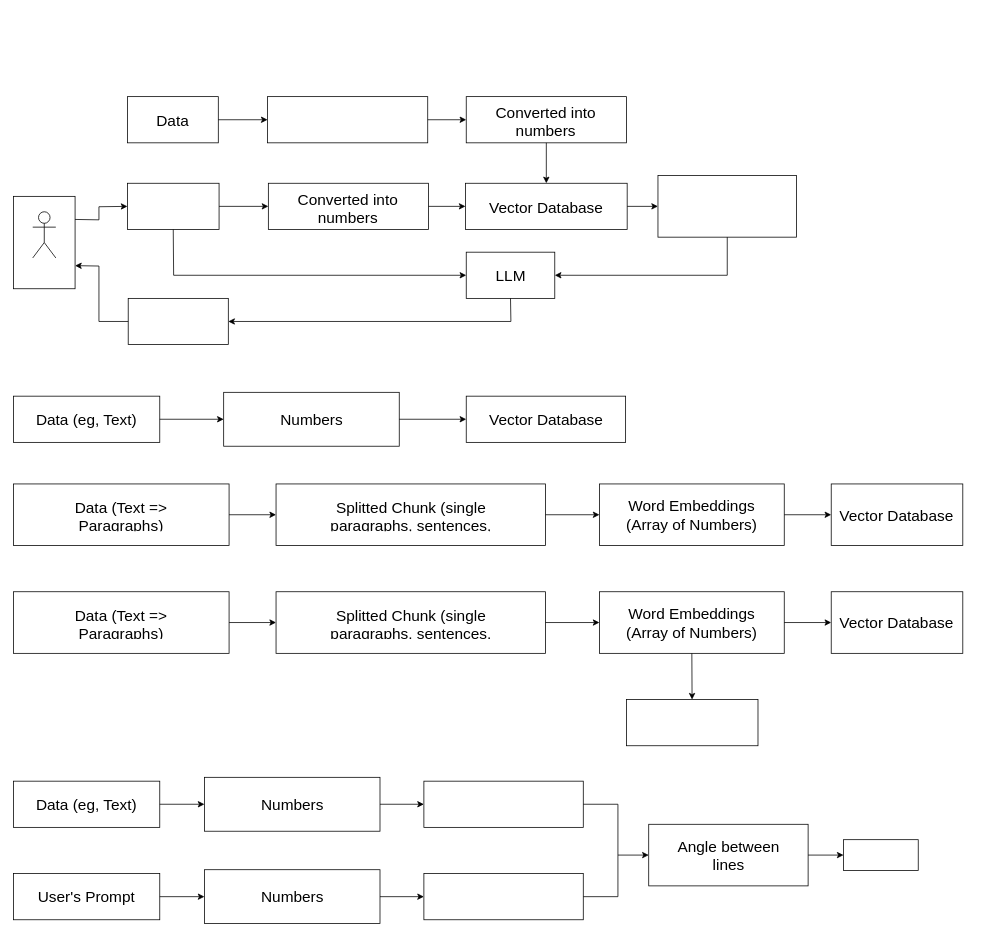
Some shapes in this 983 by 937 pixel diagram are drawn without their labels. Each missing label, with the box of its shape:
Cos θ: (843, 839, 918, 870)
Data splitted in chunks: (267, 96, 428, 143)
Line on graph: (423, 873, 583, 920)
Lines on graph: (423, 780, 583, 827)
Plot on graph: (626, 699, 758, 746)
Prompt: (127, 182, 219, 229)
Relevant Chunks of Data: (657, 175, 797, 237)
Response: (127, 298, 228, 345)
User: (32, 211, 56, 258)
